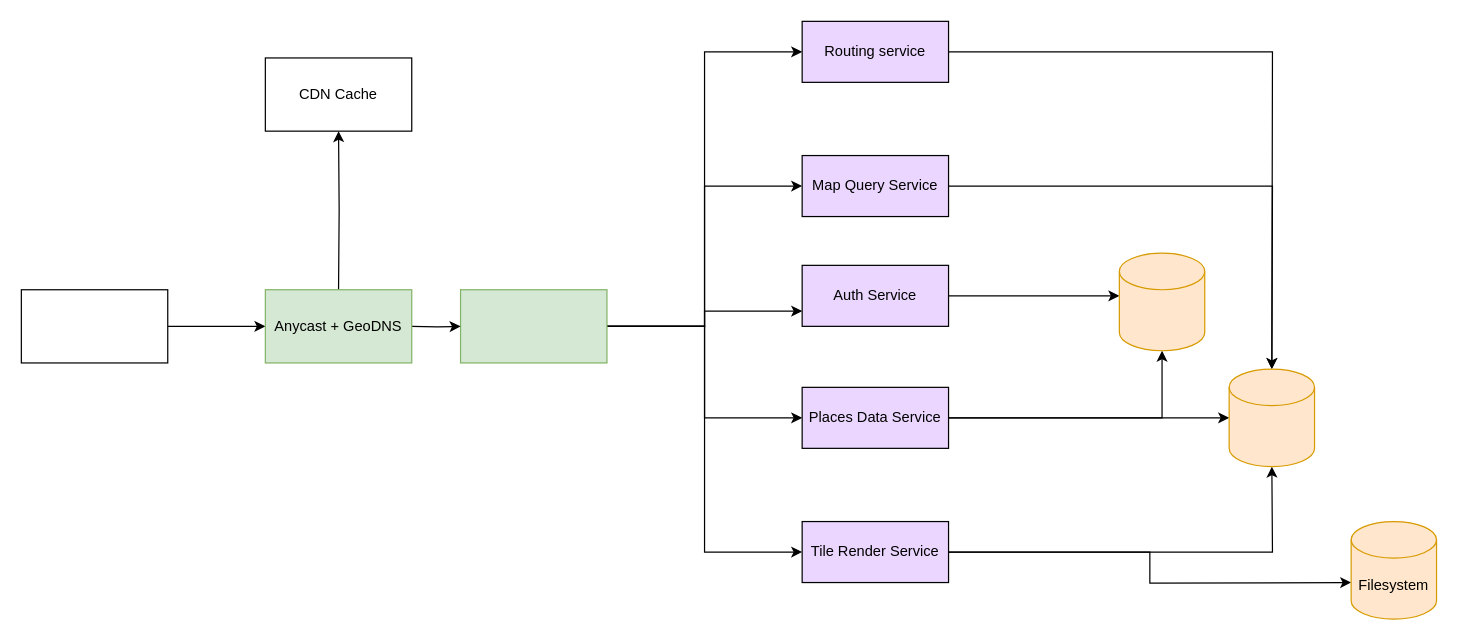
The diagram is 1458 pixels wide and 641 high, and some of its shapes have lost their labels. The centre of each missing label's shape, as x and y in pixels:
"Cassandra" goes at pixel 1161 301.
"client" goes at pixel 94 326.
"L7 Balancer (Nginx)" goes at pixel 533 326.
"PostgreSQL" goes at pixel 1271 417.
